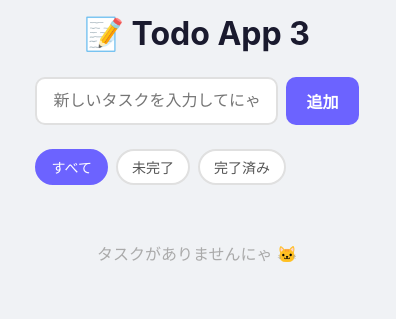
Test: TodoApp › Todo追加 › 追加に失敗するとエラーメッセージが表示される
The image size is (396, 319).
In the field with placeholder "新しいタスクを入力してにゃ": point(157, 101) [36,77,278,125], type "テスト"
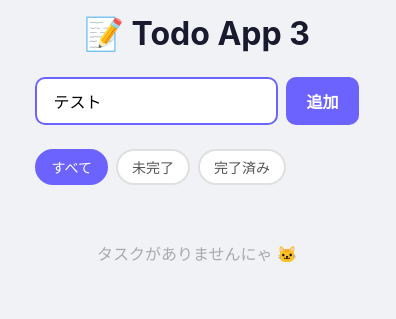
Click the button "追加": point(322, 101) [286,77,358,125]
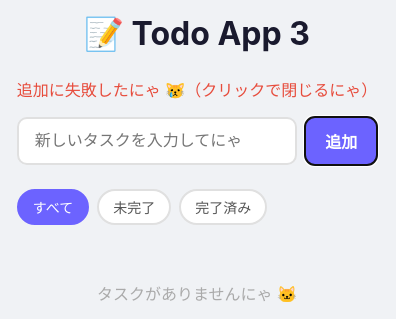
Expected: the text "追加に失敗したにゃ 😿（クリックで閉じるにゃ）" is shown, [17,77,377,101]
